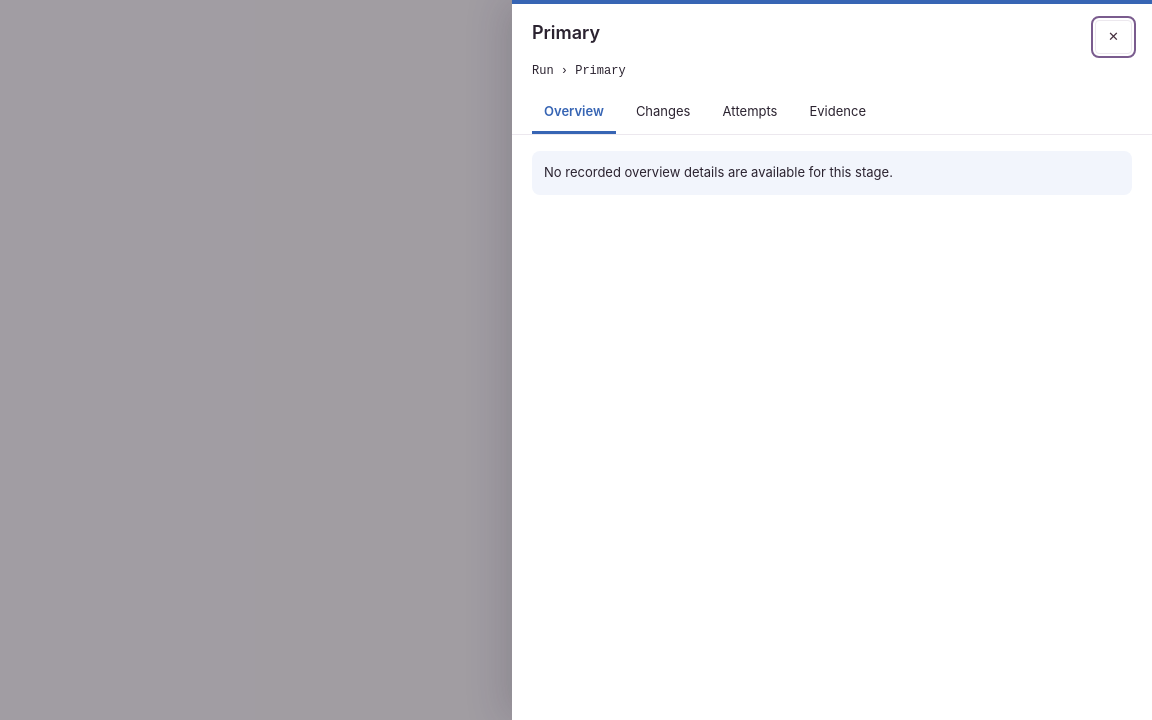
Test: opens Changes lazily and preserves the tab when another model is selected
The image size is (1152, 720).
Click the tab "Changes".
click(663, 113)  # box [624,92,702,134]
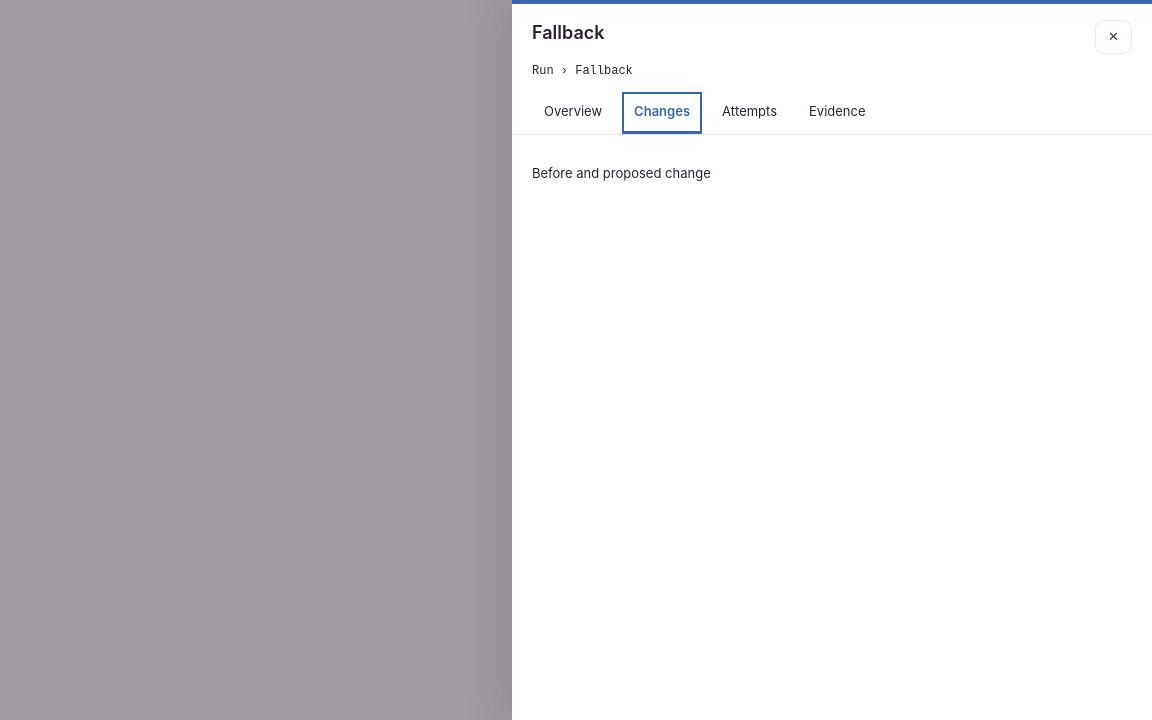
Now the text "Before and proposed change" is shown, box [532,165,711,181]
